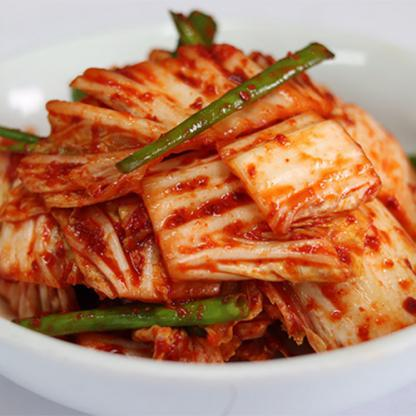kimchi: (3, 36, 412, 344)
